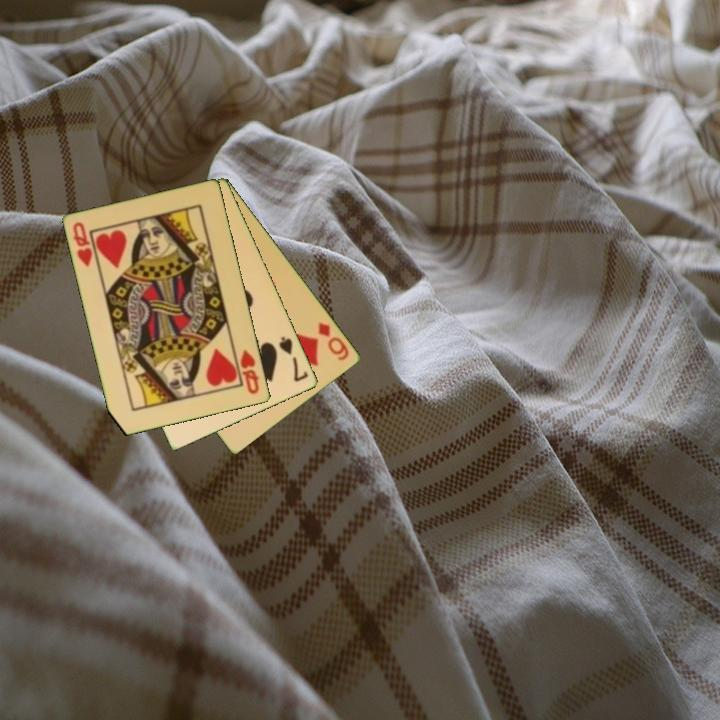6d: (315, 318, 352, 364)
7s: (276, 333, 311, 385)
Qh: (70, 219, 96, 270), (237, 346, 262, 397)
